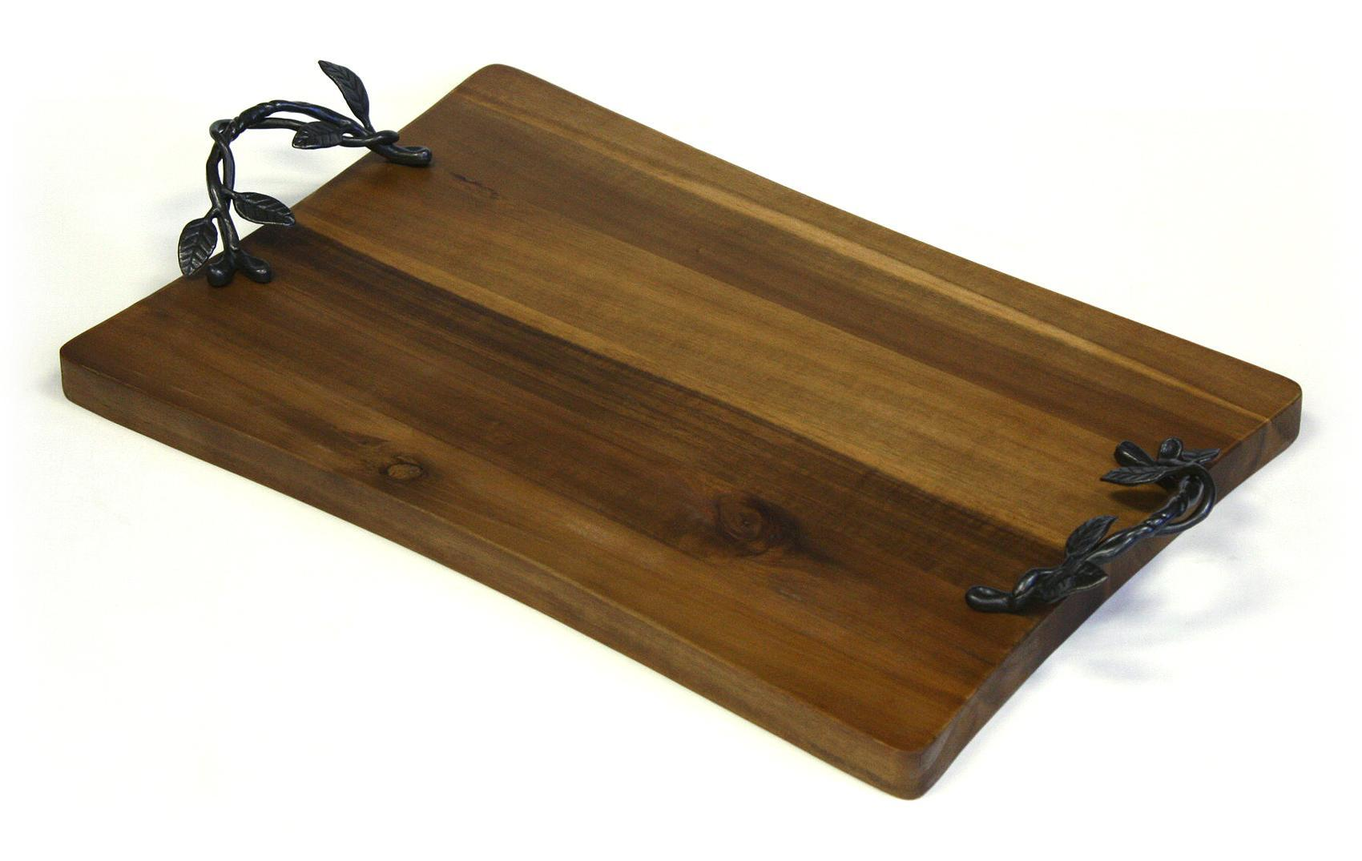gloved_hand: (46, 50, 1313, 802)
